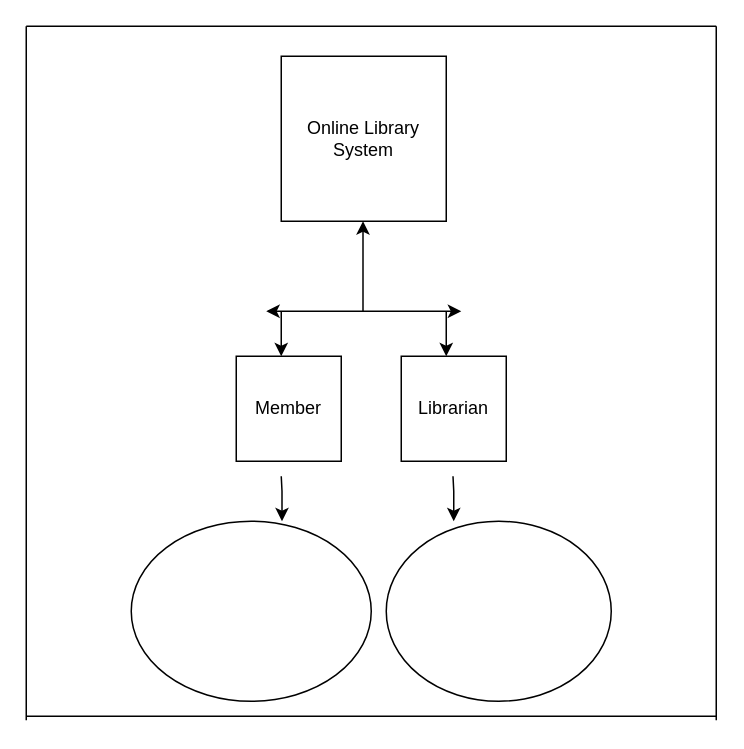
Some shapes in this 744 by 749 pixel diagram are drawn without their labels. The shapes that lost their labels are listed below. From the top down, each one's centre as x and y in pixels, then its label:
At (x=250, y=610): "Register Login Search Book View Book Detail Borrow Book Return Book Reserve Book".
At (x=498, y=610): "Add Book Remove Book Update Book info Approve Reservation View Borrow History".
